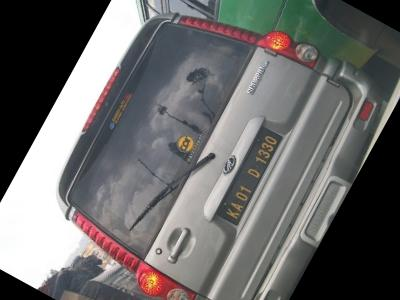plate: (193, 109, 296, 247)
